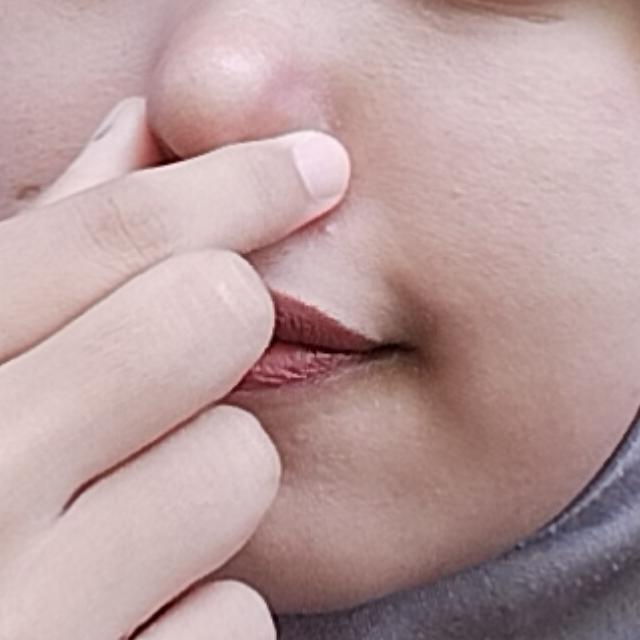bau: (0, 18, 476, 640)
